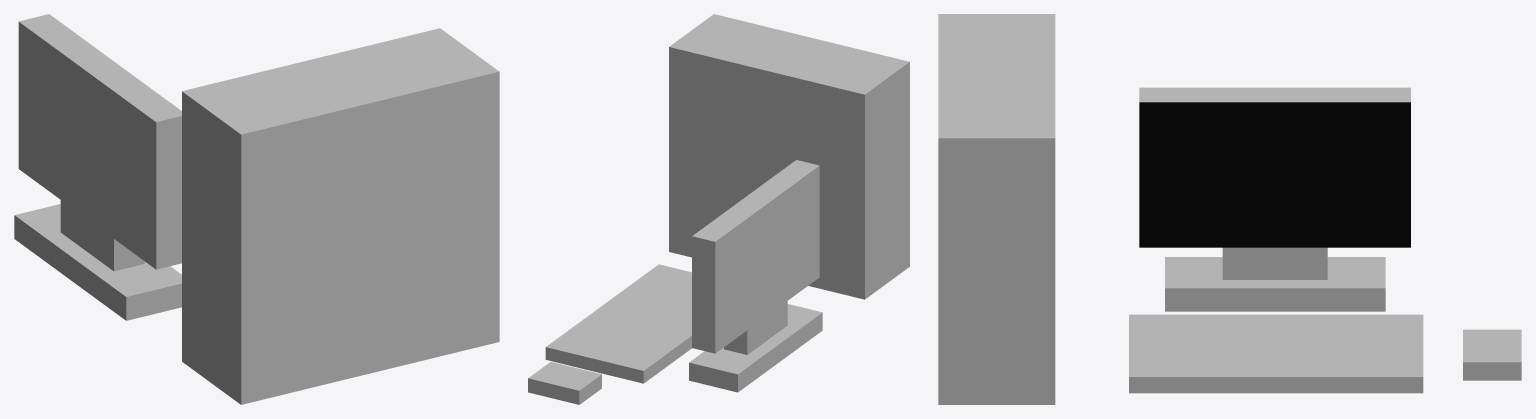
File: computer.fbx
3 views of the same model, side by side, from view 1: azimuth 30°, elevation 25°; view 2: azimuth 150°, elevation 25°; view 3: azimuth 270°, elevation 25° (orthographic). The views are drawn at different scales.
Parts seen in each view (by area): view 1: polySurface5, polySurface6; view 2: polySurface5, polySurface6; view 3: polySurface6, polySurface5.
Part boxes in pixels (x1=…): polySurface5: x1=182, y1=28, x2=499, y2=404; polySurface6: x1=14, y1=14, x2=181, y2=320; polySurface5: x1=669, y1=14, x2=909, y2=299; polySurface6: x1=528, y1=160, x2=822, y2=404; polySurface6: x1=1129, y1=87, x2=1521, y2=393; polySurface5: x1=938, y1=14, x2=1055, y2=404.
Bounding box in the file's own units: 5 × 5 × 9.91.
1 material, 1 textured.
